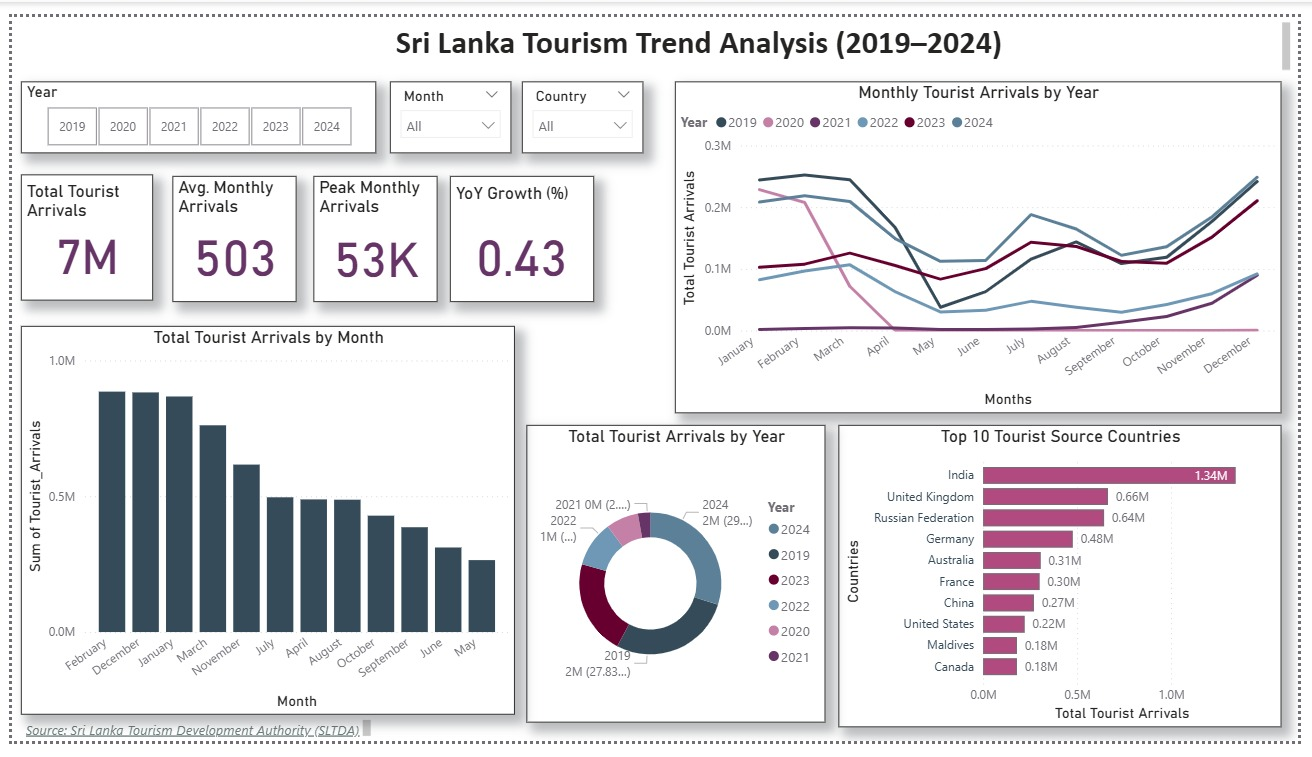

Layout of this report page (visuals, bound fields, positions):
{"tool":"powerbi","page":{"name":"Page 1","canvas":[1280,720],"ordinal":0},"visuals":[{"type":"textbox","box":[98.6,0,1178.6,62],"z":0},{"type":"slicer","title":"Year","fields":{"Values":["SriLanka_Tourism_2019_2024.Year"]},"box":[9.5,63.6,353.1,71.6],"z":1000},{"type":"lineChart","title":"Monthly Tourist Arrivals by Year","fields":{"Category":["MonthTable.Month"],"Y":["Sum(SriLanka_Tourism_2019_2024.Tourist_Arrivals)"],"Series":["SriLanka_Tourism_2019_2024.Year"]},"box":[659.6,64.1,603.3,329.8],"z":2000},{"type":"clusteredBarChart","title":"Top 10 Tourist Source Countries","fields":{"Category":["SriLanka_Tourism_2019_2024.Country"],"Y":["Sum(SriLanka_Tourism_2019_2024.Tourist_Arrivals)"]},"box":[822.3,405.6,440.6,300.6],"z":3000},{"type":"slicer","fields":{"Values":["MonthTable.Month"]},"box":[375.4,63.6,120.9,71.6],"z":4000},{"type":"card","title":"Avg. Monthly Arrivals","fields":{"Values":["SriLanka_Tourism_2019_2024.Average Arrivals"]},"box":[159.4,157.9,123.5,125],"z":5000},{"type":"card","title":"Peak Monthly Arrivals","fields":{"Values":["SriLanka_Tourism_2019_2024.Max Arrivals"]},"box":[300.1,157.9,123.5,125],"z":6000},{"type":"card","title":"Total Tourist Arrivals","fields":{"Values":["Sum(SriLanka_Tourism_2019_2024.Tourist_Arrivals)"]},"box":[9.4,156.3,131.3,125],"z":7000},{"type":"donutChart","title":"Total Tourist Arrivals by Year","fields":{"Category":["SriLanka_Tourism_2019_2024.Year"],"Y":["Sum(SriLanka_Tourism_2019_2024.Tourist_Arrivals)"]},"box":[512.2,405.6,297.4,295.9],"z":8000},{"type":"card","title":"YoY Growth (%)","fields":{"Values":["SriLanka_Tourism_2019_2024.YoY Change %"]},"box":[435.8,157.5,143.2,125.7],"z":9000},{"type":"textbox","box":[9.5,693.5,353.1,27],"z":10000},{"type":"clusteredColumnChart","title":"Total Tourist Arrivals by Month","fields":{"Category":["SriLanka_Tourism_2019_2024.Month"],"Y":["Sum(SriLanka_Tourism_2019_2024.Tourist_Arrivals)"]},"box":[9.5,307,491.5,386.5],"z":11000},{"type":"slicer","fields":{"Values":["SriLanka_Tourism_2019_2024.Country"]},"box":[507.4,63.6,120.9,71.6],"z":12000}]}

Visuals, with their boxes in screenshot pixels (x1, y1, x2, y2), scaled from the page's 1280x720 canvas onto the 1312x757 screenshot:
textbox: <box>101,0,1309,65</box>
"Year" slicer: <box>10,67,372,142</box>
"Monthly Tourist Arrivals by Year" lineChart: <box>676,67,1294,414</box>
"Top 10 Tourist Source Countries" clusteredBarChart: <box>843,426,1294,742</box>
slicer - MonthTable.Month: <box>385,67,509,142</box>
"Avg. Monthly Arrivals" card: <box>163,166,290,297</box>
"Peak Monthly Arrivals" card: <box>308,166,434,297</box>
"Total Tourist Arrivals" card: <box>10,164,144,296</box>
"Total Tourist Arrivals by Year" donutChart: <box>525,426,830,738</box>
"YoY Growth (%)" card: <box>447,166,593,298</box>
textbox: <box>10,729,372,756</box>
"Total Tourist Arrivals by Month" clusteredColumnChart: <box>10,323,514,729</box>
slicer - SriLanka_Tourism_2019_2024.Country: <box>520,67,644,142</box>
